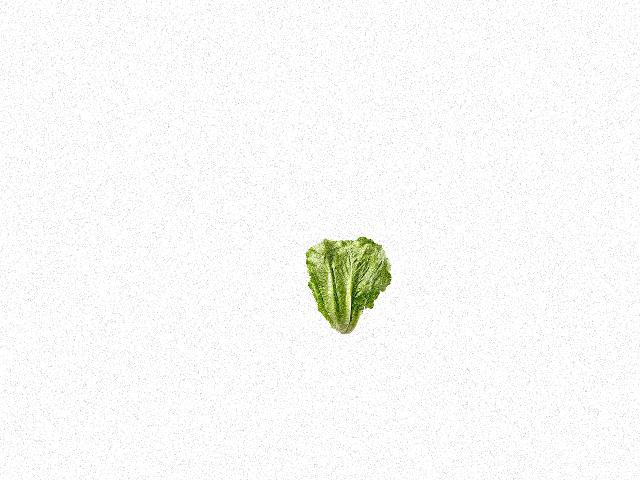lettuce: (309, 235, 394, 339)
